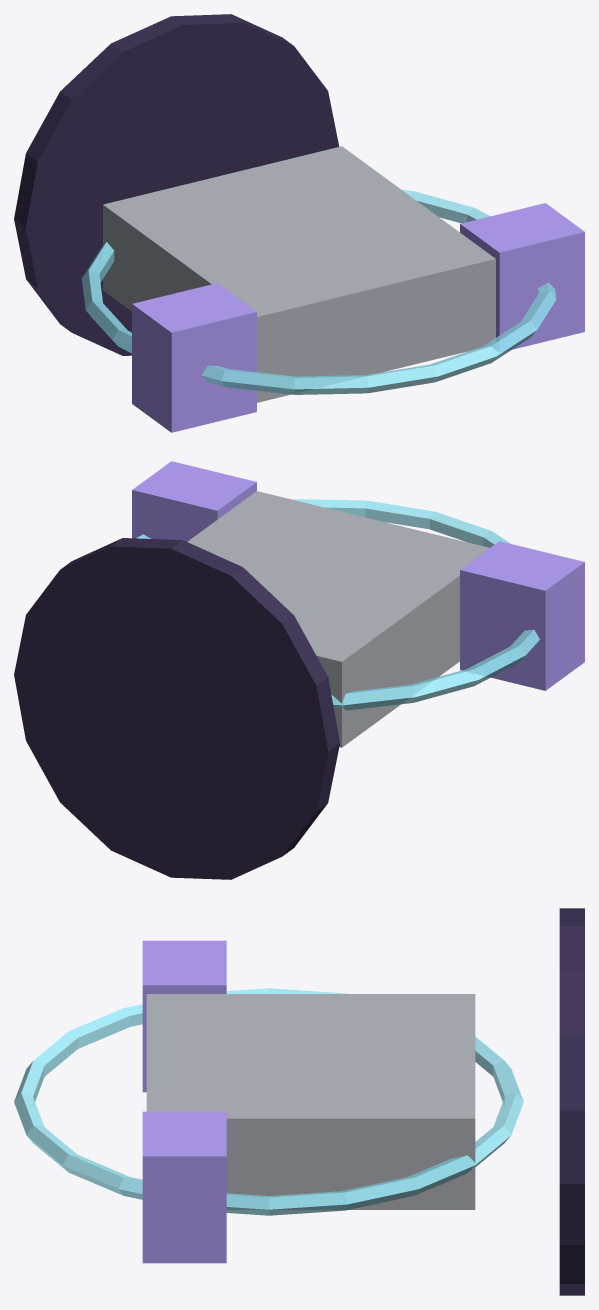
The model's file is 05_high_tier_magic_armor_aura.glb.
3 renders of one model, top to bottom at view 1: azimuth 30°, elevation 25°; view 2: azimuth 150°, elevation 25°; view 3: azimuth 270°, elevation 25°, orthographic. The views are drawn at different scales.
Visible parts, largest first — view 1: chest_plate_upgrade, armor_display_base, left_pauldron_upgrade, right_pauldron_upgrade, armor_barrier_ring; view 2: armor_display_base, chest_plate_upgrade, left_pauldron_upgrade, armor_barrier_ring, right_pauldron_upgrade; view 3: chest_plate_upgrade, armor_barrier_ring, right_pauldron_upgrade, armor_display_base, left_pauldron_upgrade.
Part boxes in pixels (box(x1,y1,x2,y2)): chest_plate_upgrade: box(103, 146, 495, 402); armor_display_base: box(14, 14, 339, 355); left_pauldron_upgrade: box(132, 283, 256, 432); right_pauldron_upgrade: box(460, 203, 584, 351); armor_barrier_ring: box(81, 189, 556, 394); armor_display_base: box(14, 538, 339, 879); chest_plate_upgrade: box(187, 491, 489, 747); left_pauldron_upgrade: box(460, 541, 584, 690); armor_barrier_ring: box(136, 499, 539, 710); right_pauldron_upgrade: box(132, 461, 256, 541); chest_plate_upgrade: box(146, 994, 475, 1209); armor_barrier_ring: box(14, 988, 523, 1215); right_pauldron_upgrade: box(142, 1111, 226, 1263); armor_display_base: box(559, 908, 584, 1295); left_pauldron_upgrade: box(142, 940, 226, 1092).
Size of the model in its own units: 1.21 by 0.92 by 1.36.
